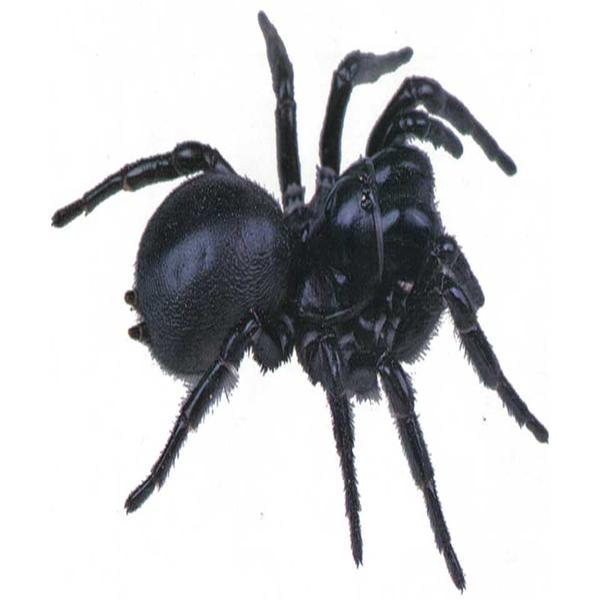Funnel Web Spider: (57, 18, 543, 581)
